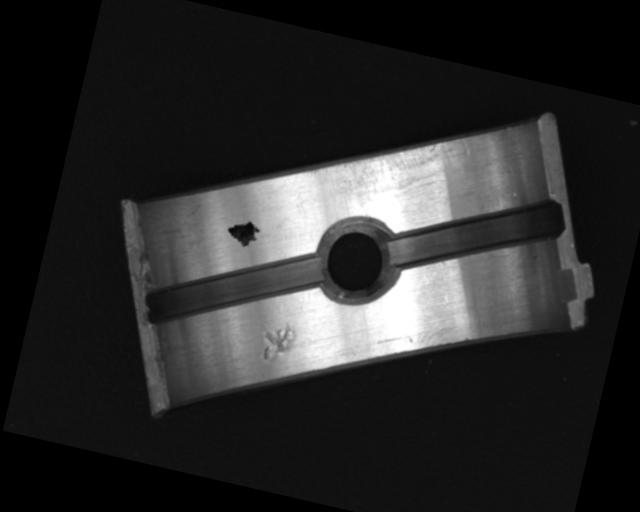blot: (222, 216, 262, 252)
bruise: (255, 315, 300, 367)
gap: (384, 167, 571, 307), (142, 220, 326, 358)
hole: (313, 208, 401, 312)
scratch: (323, 107, 473, 228)
